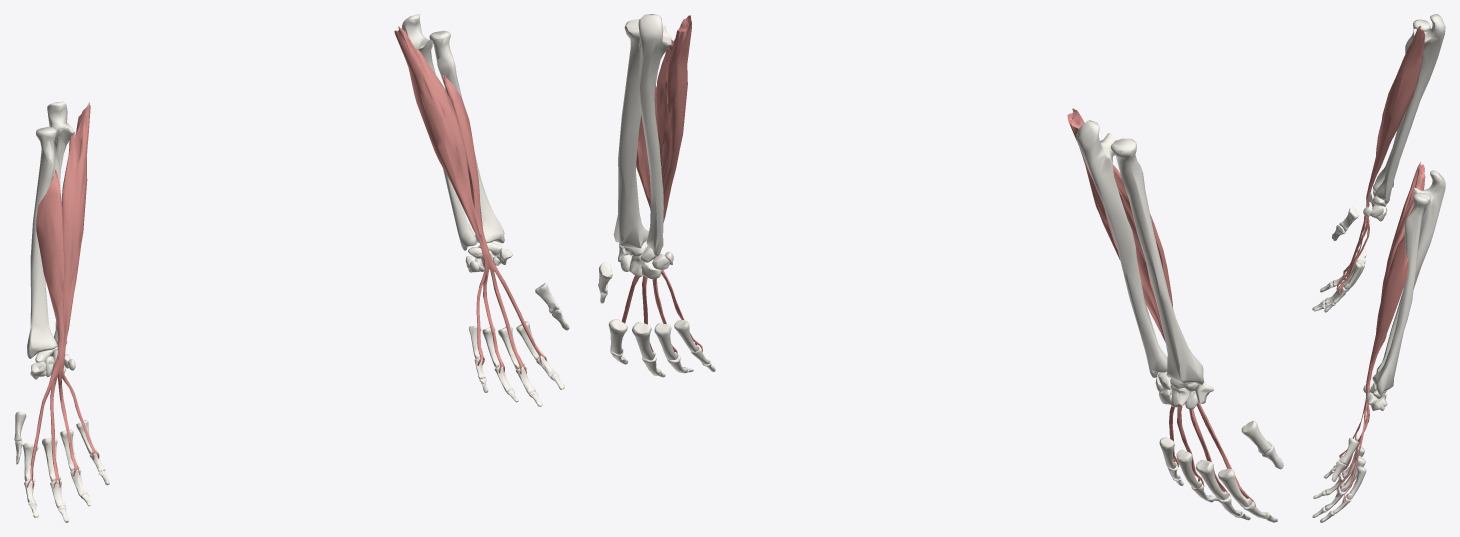
File: punho-mao.glb
3 views of the same model, side by side, from view 1: azimuth 30°, elevation 25°; view 2: azimuth 150°, elevation 25°; view 3: azimuth 270°, elevation 25° (orthographic). The views are drawn at different scales.
Visible parts, largest first — view 1: flexores-dedos, falanges-mao, radio, ulna, carpo; view 2: flexores-dedos, ulna, radio, falanges-mao, carpo; view 3: flexores-dedos, ulna, radio, falanges-mao, carpo.
Part boxes in pixels (x1,y1,x2,y2): flexores-dedos: [26, 26, 546, 489]; falanges-mao: [14, 283, 569, 522]; radio: [27, 30, 504, 358]; ulna: [47, 14, 476, 344]; carpo: [30, 242, 512, 379]; flexores-dedos: [612, 15, 1257, 513]; ulna: [638, 14, 1167, 377]; radio: [613, 19, 1203, 384]; falanges-mao: [598, 262, 1283, 522]; carpo: [618, 243, 1213, 409]; flexores-dedos: [1336, 26, 1425, 507]; ulna: [1376, 14, 1445, 373]; radio: [1372, 19, 1430, 395]; falanges-mao: [1312, 207, 1366, 522]; carpo: [1363, 190, 1387, 410].
Bounding box in the file's own units: 0.6478 × 0.4 × 0.1509.
